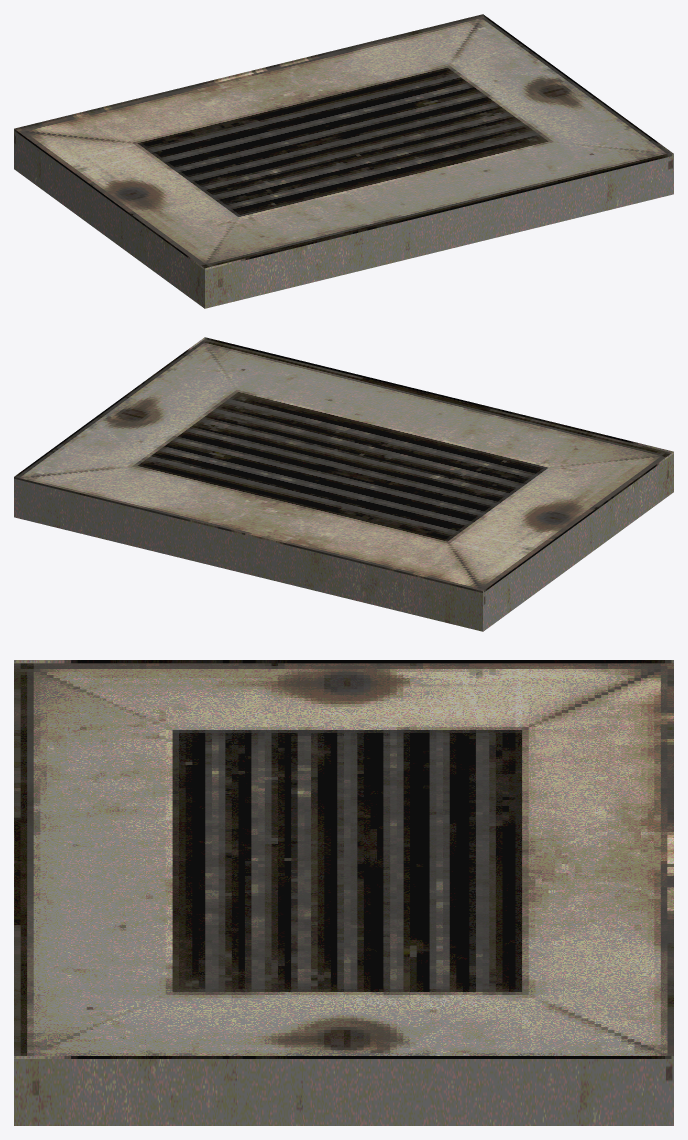
Rendered from trapdoor.glb.
3 views of the same model, one above another, from view 1: azimuth 30°, elevation 25°; view 2: azimuth 150°, elevation 25°; view 3: azimuth 270°, elevation 25° (orthographic). The views are drawn at different scales.
Visible parts, largest first — view 1: trapdoor-col; view 2: trapdoor-col; view 3: trapdoor-col.
Part boxes in pixels (<box>): trapdoor-col: <box>14,14,673,308</box>; trapdoor-col: <box>14,337,673,631</box>; trapdoor-col: <box>14,660,673,1125</box>.
Size of the model in its own units: 2.51 by 0.2067 by 1.77.
1 material, 1 textured.
